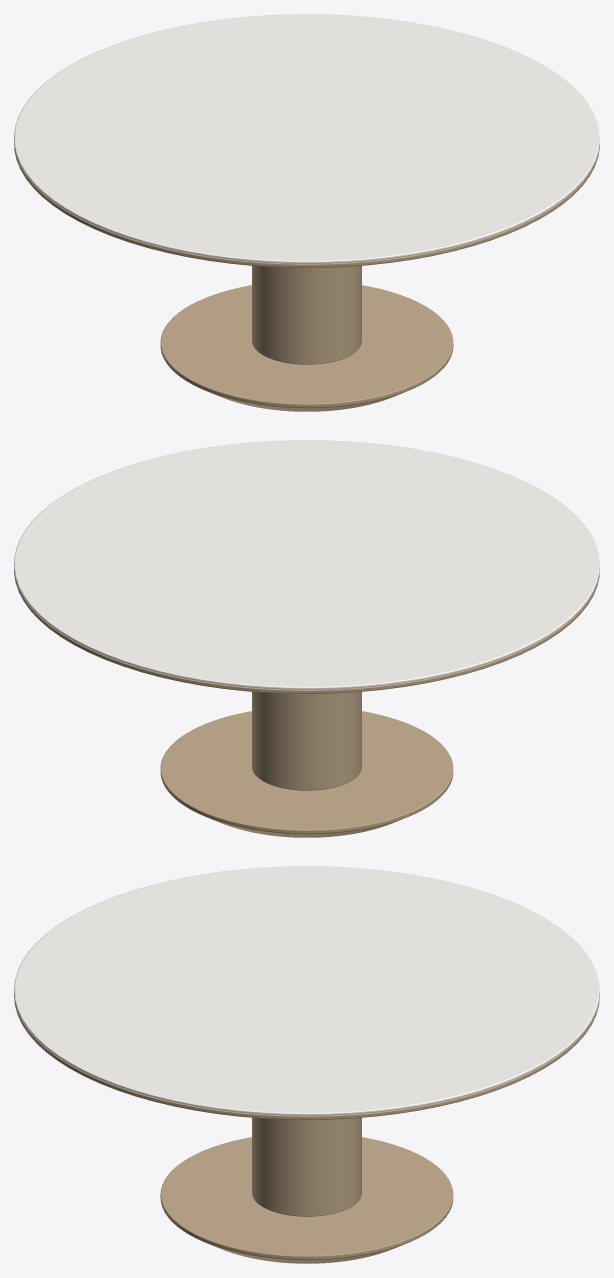
The model's file is orbit_d80h33_hoje.glb.
3 renders of one model, top to bottom at view 1: azimuth 30°, elevation 25°; view 2: azimuth 150°, elevation 25°; view 3: azimuth 270°, elevation 25°, orthographic.
Parts seen in each view (by area): view 1: Top Orbit Coffee Table 019, Base Orbit Coffee Table 019, Base Element Orbit Coffee Table 022, Undertop Orbit Coffee Table 019; view 2: Top Orbit Coffee Table 019, Base Orbit Coffee Table 019, Base Element Orbit Coffee Table 022, Undertop Orbit Coffee Table 019; view 3: Top Orbit Coffee Table 019, Base Orbit Coffee Table 019, Base Element Orbit Coffee Table 022, Undertop Orbit Coffee Table 019.
Part boxes in pixels (left/top/right/bottom): Top Orbit Coffee Table 019: left=14, top=14, right=599, bottom=263; Base Orbit Coffee Table 019: left=160, top=285, right=453, bottom=411; Base Element Orbit Coffee Table 022: left=252, top=265, right=361, bottom=364; Undertop Orbit Coffee Table 019: left=14, top=142, right=599, bottom=267; Top Orbit Coffee Table 019: left=14, top=440, right=599, bottom=689; Base Orbit Coffee Table 019: left=160, top=711, right=453, bottom=837; Base Element Orbit Coffee Table 022: left=252, top=691, right=361, bottom=790; Undertop Orbit Coffee Table 019: left=14, top=568, right=599, bottom=693; Top Orbit Coffee Table 019: left=14, top=866, right=599, bottom=1115; Base Orbit Coffee Table 019: left=160, top=1137, right=453, bottom=1263; Base Element Orbit Coffee Table 022: left=252, top=1117, right=361, bottom=1216; Undertop Orbit Coffee Table 019: left=14, top=993, right=599, bottom=1119.
Bounding box in the file's own units: 0.8 × 0.334 × 0.8.
